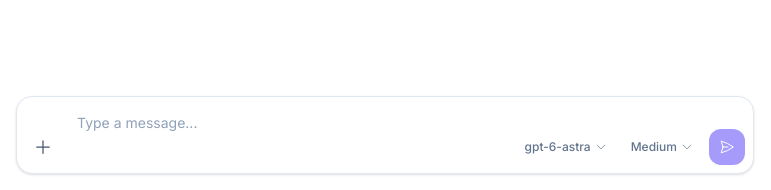
Test case: ChatPage › shows the user's model and effort, and saves a new pick
The image size is (771, 190).
Expected: the button with aria-label "Model: gpt-6-astra" is shown, [516,129,615,165]
Click the button with aria-label "Effort: Medium".
click(662, 147)  # box [623,129,701,165]
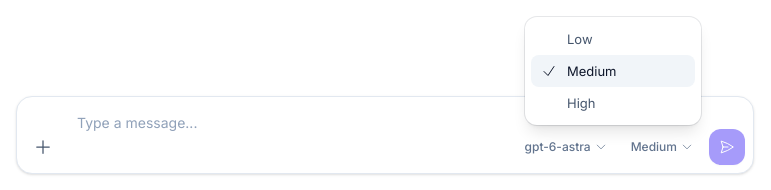
Click the menu item "High".
click(613, 103)  # box [531,87,695,119]
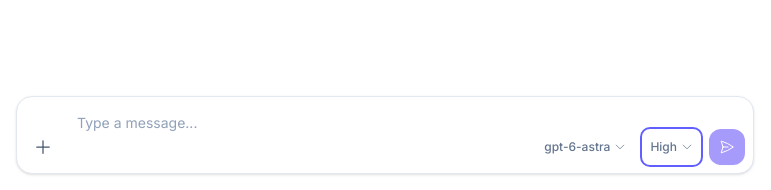
Now the button with aria-label "Effort: High" is shown, box [642,129,701,165]
